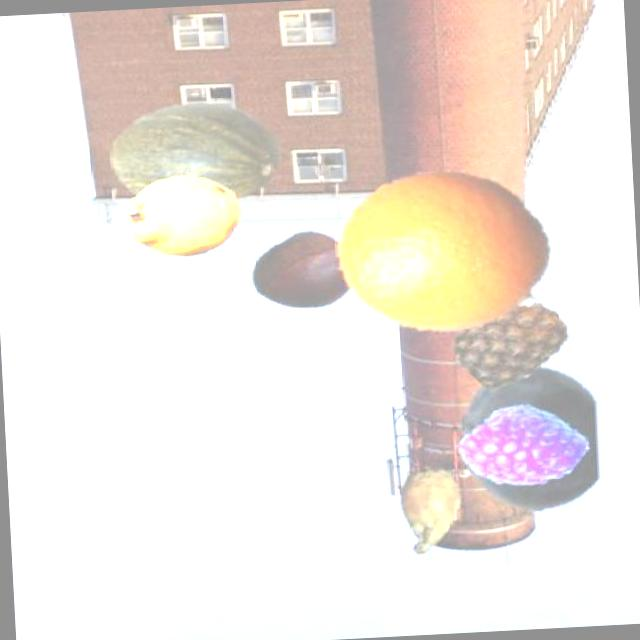Orange: (332, 165, 560, 342)
